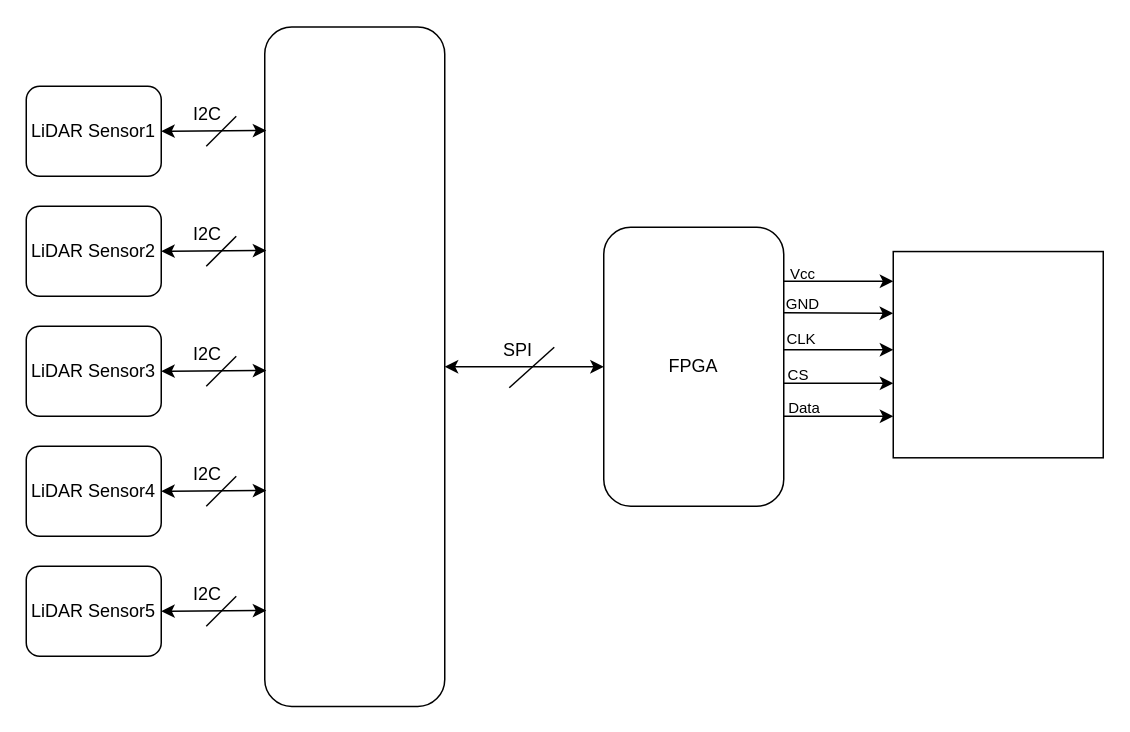
Some shapes in this 1130 by 732 pixel diagram are drawn without their labels. The centre of each missing label's shape, as x and y in pixels:
"LED 32x8 Dot Matrix" goes at (x=997, y=354).
"MCU" goes at (x=354, y=366).
